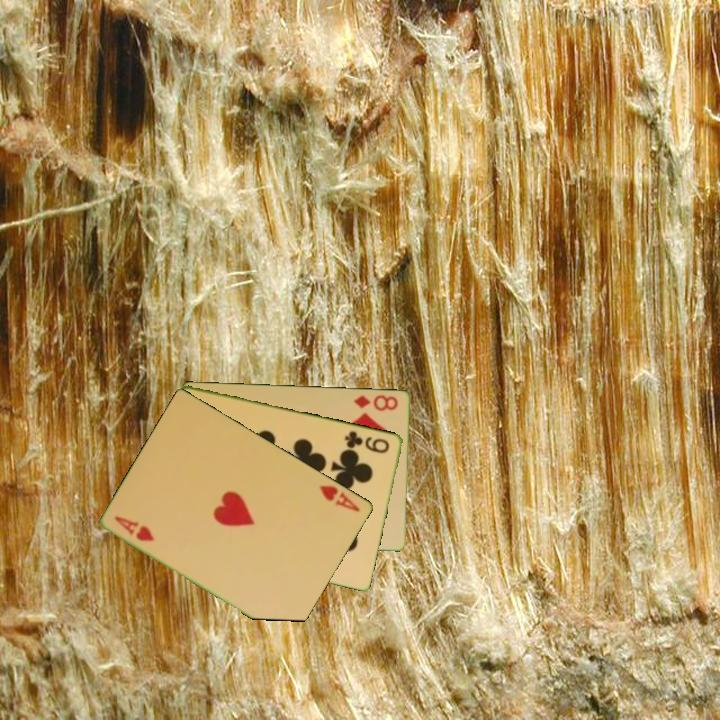8d: (350, 391, 401, 414)
9c: (341, 427, 393, 456)
Ah: (316, 481, 363, 515), (111, 512, 158, 544)
